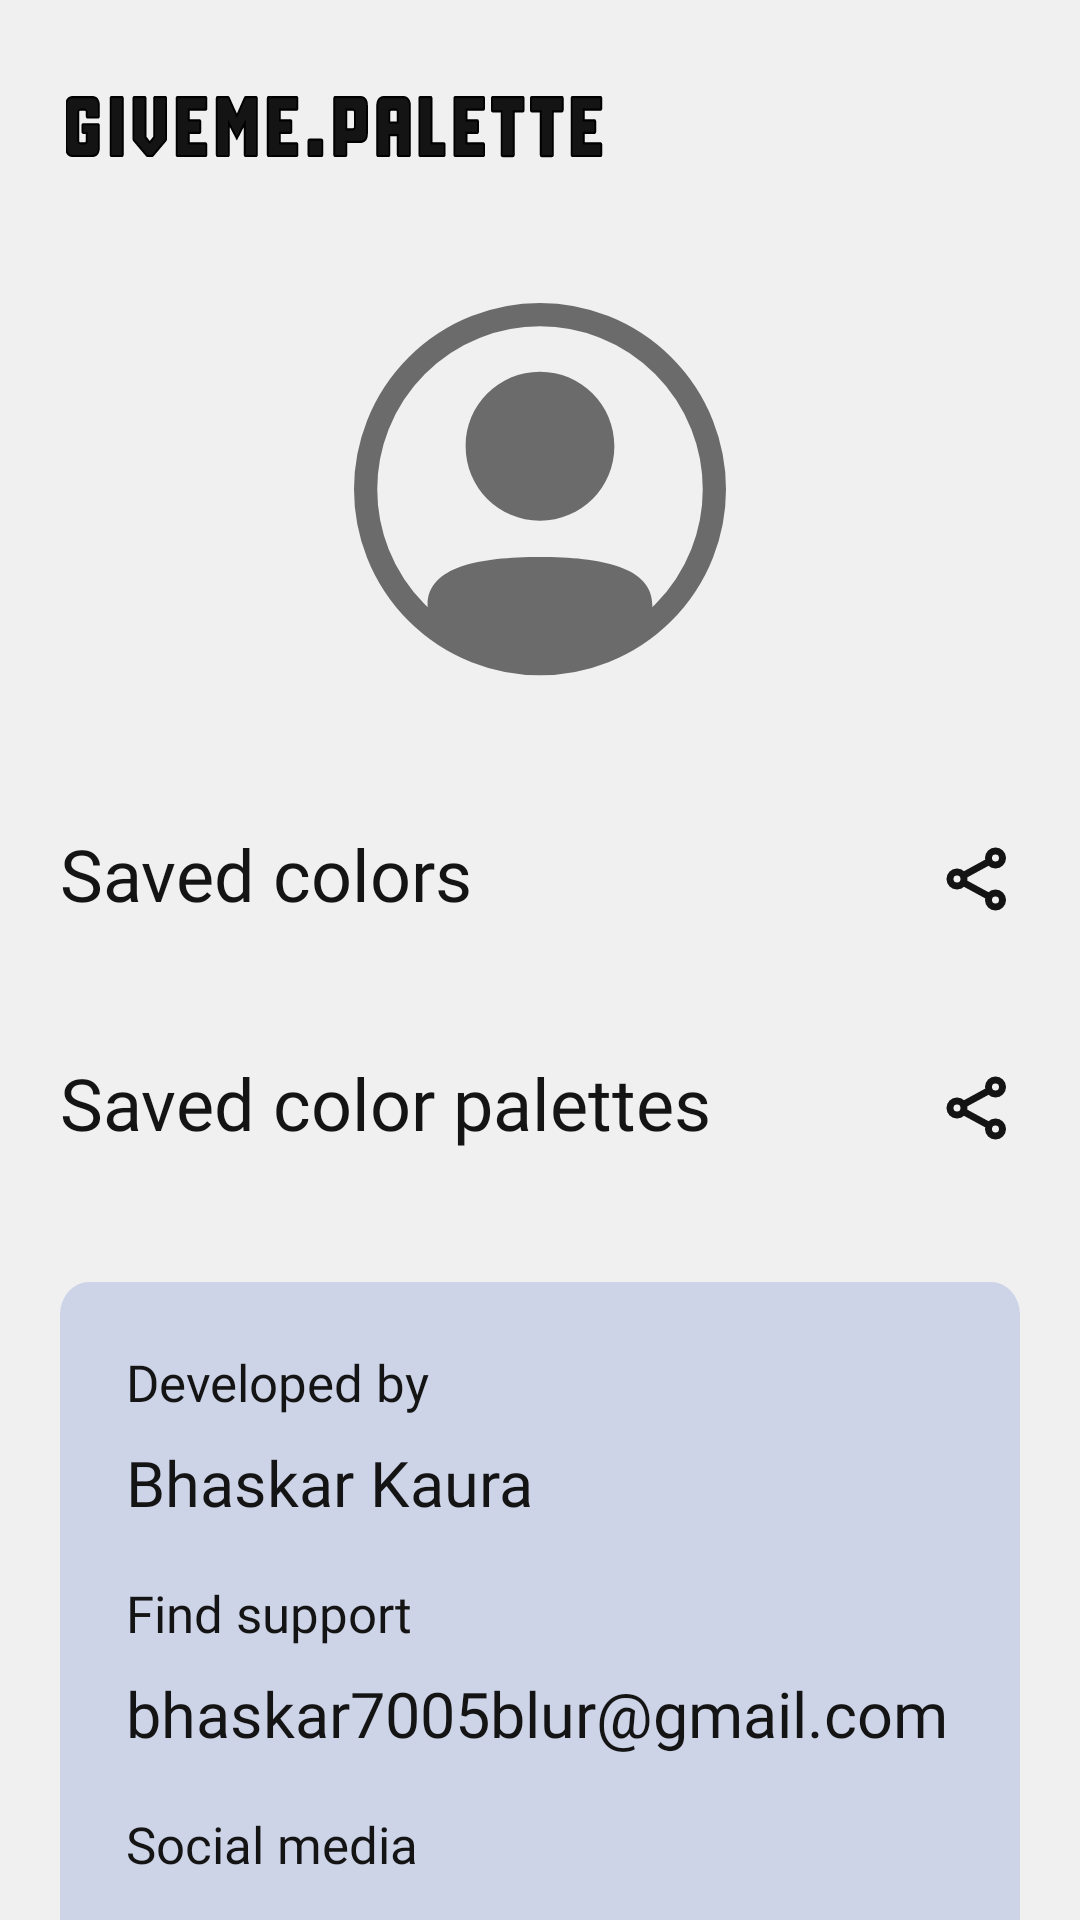

Icons on this 1080*1920 Android screen, each with its box as rect(x1, y1, x2, y2):
share: rect(946, 847, 1006, 911), rect(946, 1076, 1006, 1140)
